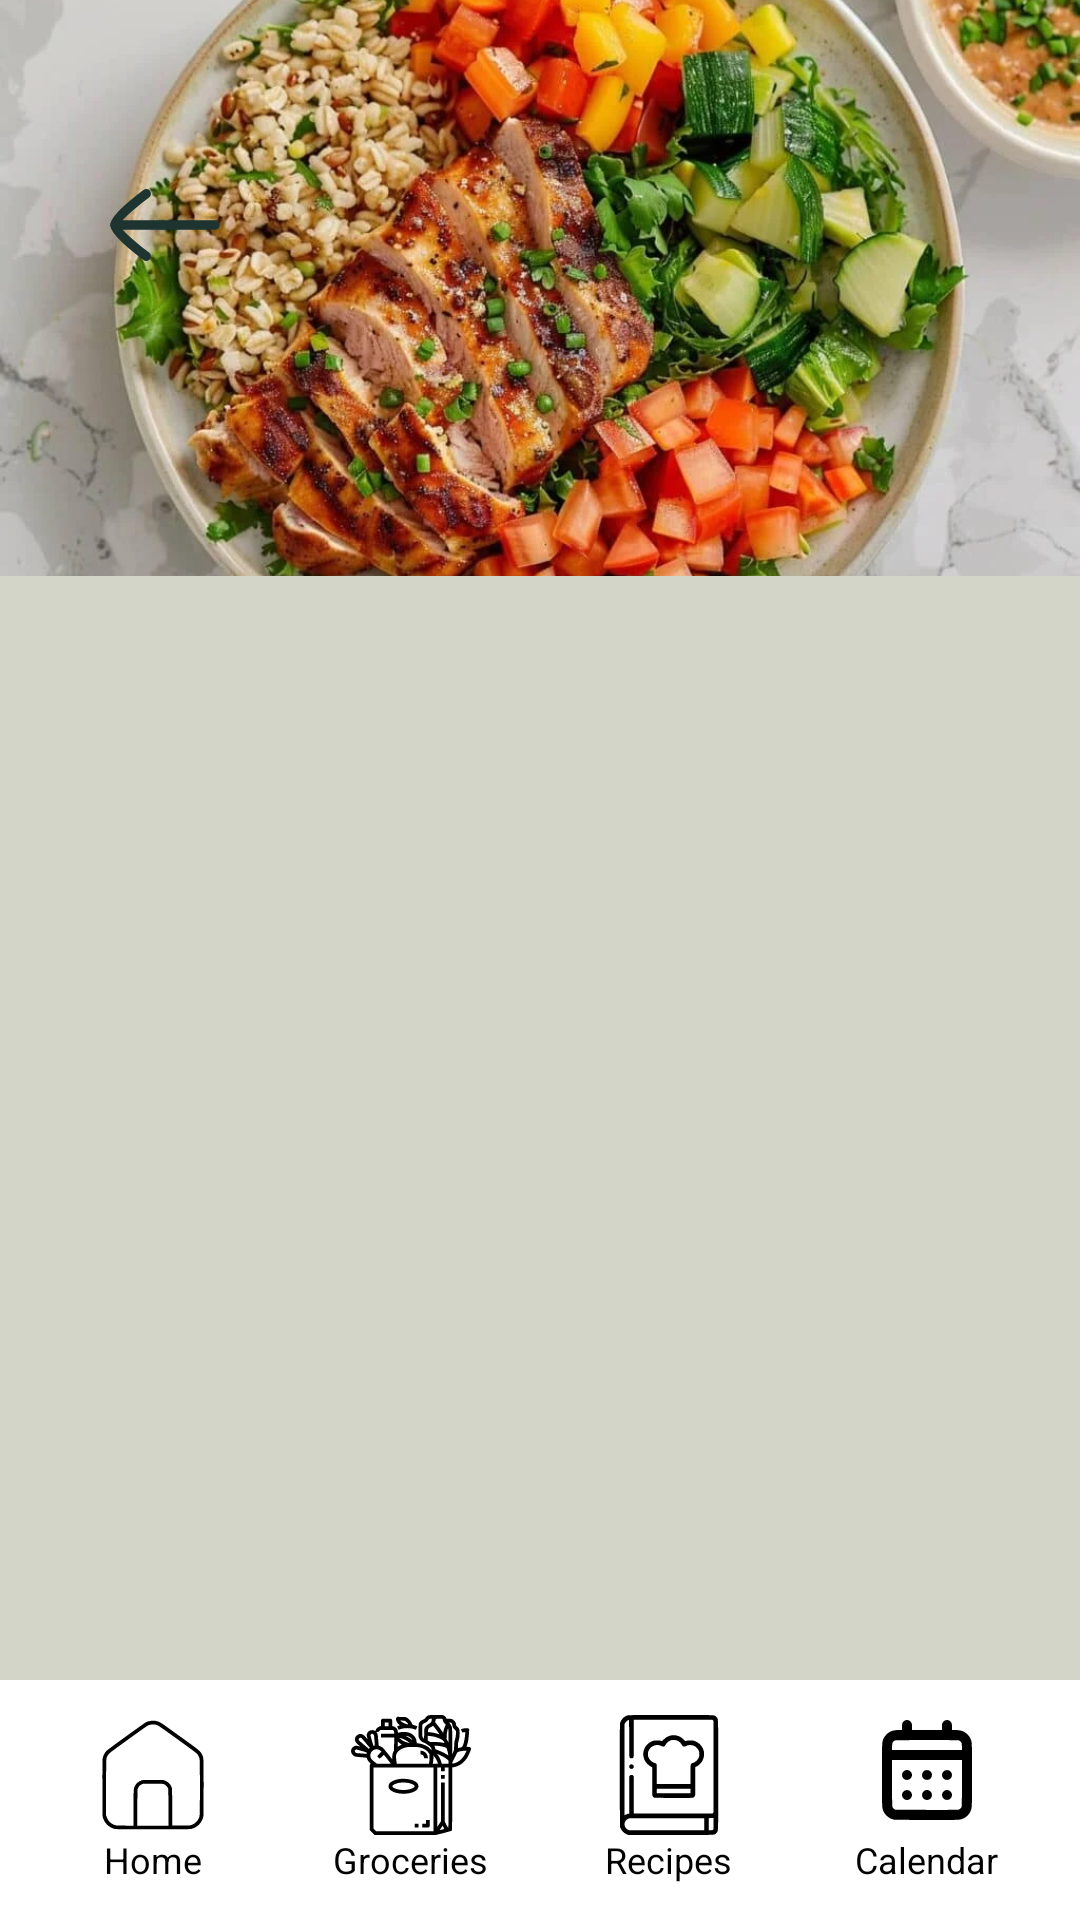

Icons on this 1080×1920 Android screen, each with the point to tap as point (x, y):
back: point (165, 225)
